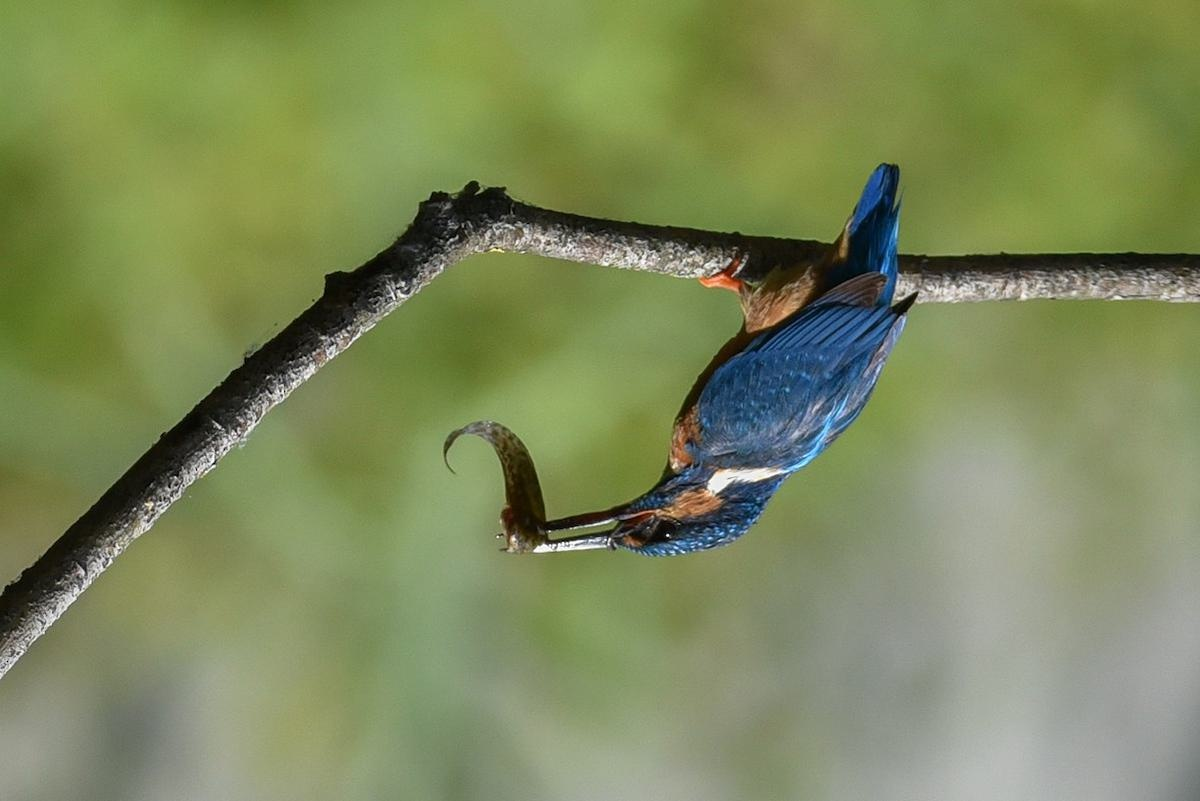kingfisher: (499, 166, 928, 589)
